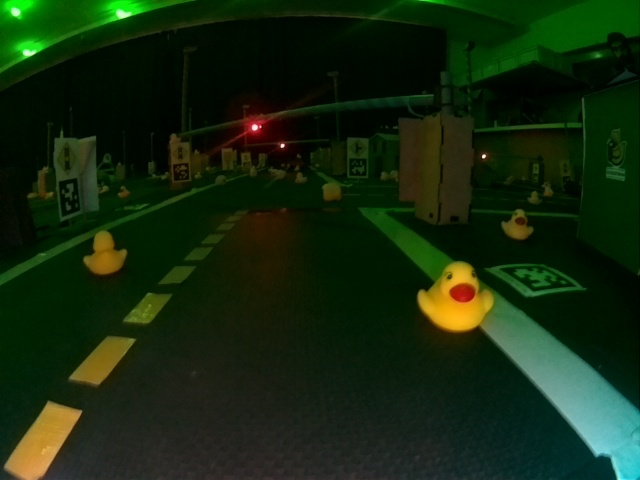Duckie: (418, 262, 493, 331), (83, 231, 127, 273), (502, 211, 532, 240), (323, 182, 342, 202), (118, 187, 130, 198), (528, 192, 539, 201), (295, 173, 305, 182)
Intersection sign: (348, 138, 366, 155)
QR code: (488, 263, 585, 295), (59, 180, 81, 216), (348, 159, 367, 177), (173, 163, 191, 181)
Signal sign: (55, 139, 75, 175), (172, 144, 189, 161)
Traffic light: (250, 123, 261, 132)
